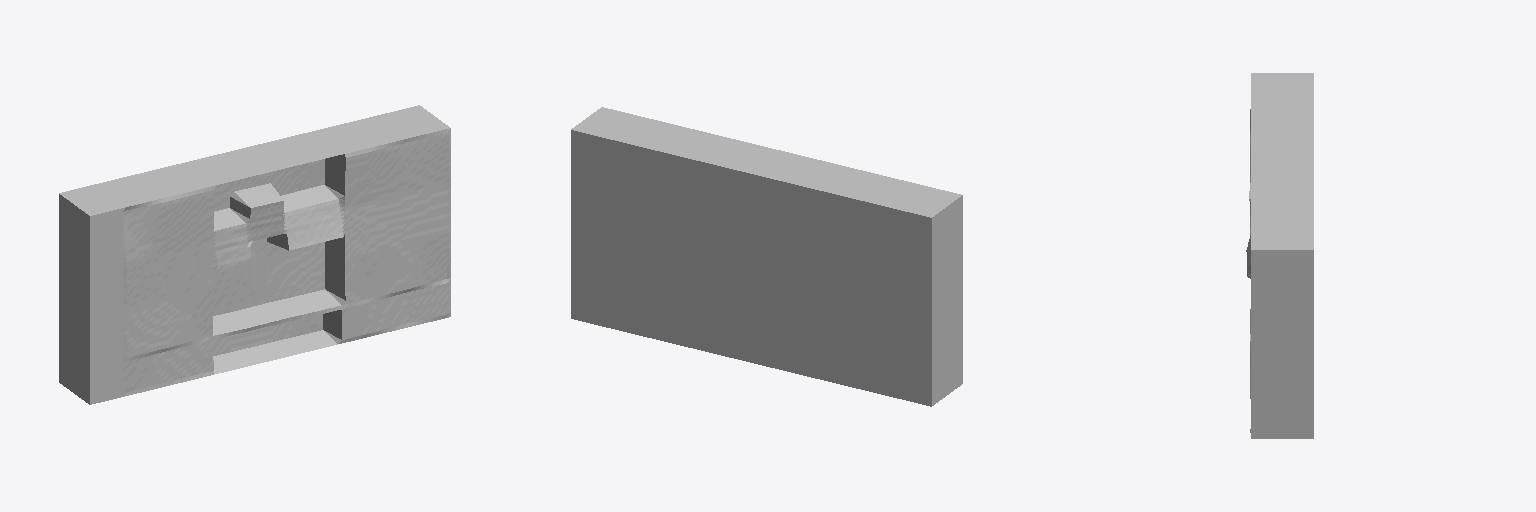
The model's file is rectangular_prism_bumps_1_1.obj.
The picture shows the model from 3 angles: view 1: azimuth 30°, elevation 25°; view 2: azimuth 150°, elevation 25°; view 3: azimuth 270°, elevation 25°; orthographic projection.
Bounding box in the file's own units: 10 × 5 × 1.61.